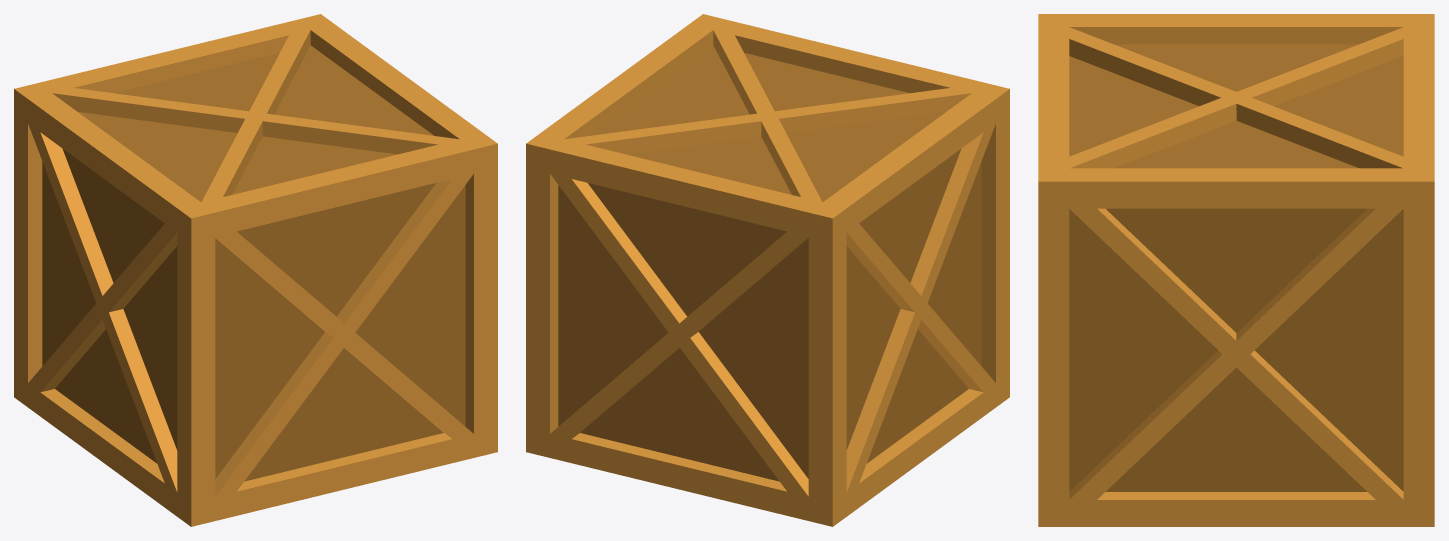
Rendered from Crate.fbx.
3 renders of one model, left to right at view 1: azimuth 30°, elevation 25°; view 2: azimuth 150°, elevation 25°; view 3: azimuth 270°, elevation 25°, orthographic. The views are drawn at different scales.
Visible parts, largest first — view 1: pCube49; view 2: pCube49; view 3: pCube49.
Boxes of the visible parts, <box> form: pCube49: <box>14,14,497,526</box>; pCube49: <box>526,14,1009,526</box>; pCube49: <box>1038,14,1434,526</box>.
Size of the model in its own units: 2 by 1.92 by 2.
